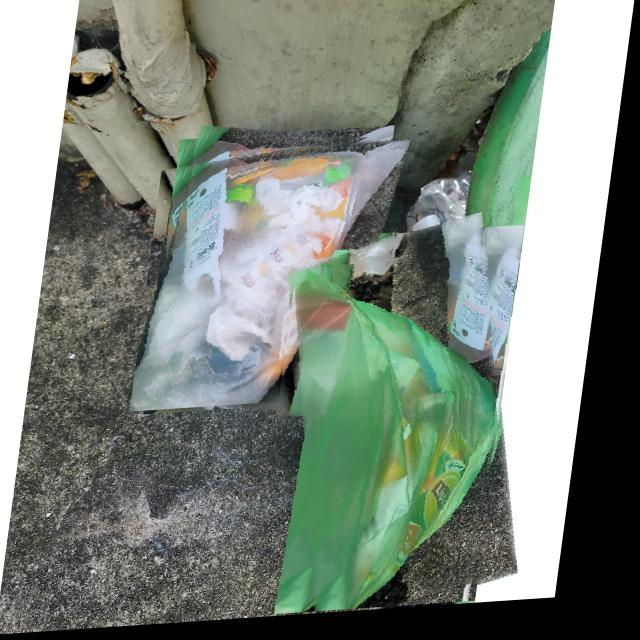other_trashbag: (143, 147, 414, 413), (303, 273, 510, 618)
